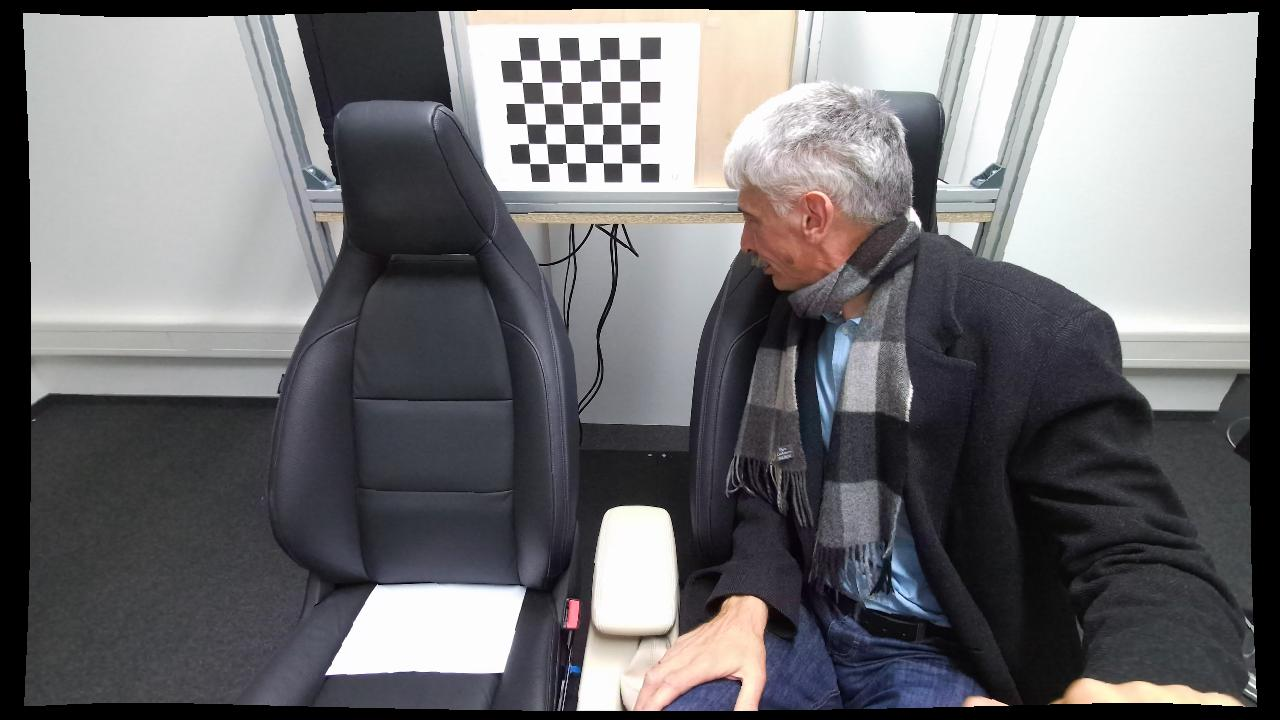Distracted: (639, 79, 1138, 712)
